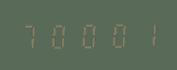one: (130, 19, 157, 48)
seven: (18, 21, 45, 50)
zero: (46, 20, 73, 50), (102, 19, 129, 49), (74, 20, 101, 49)
